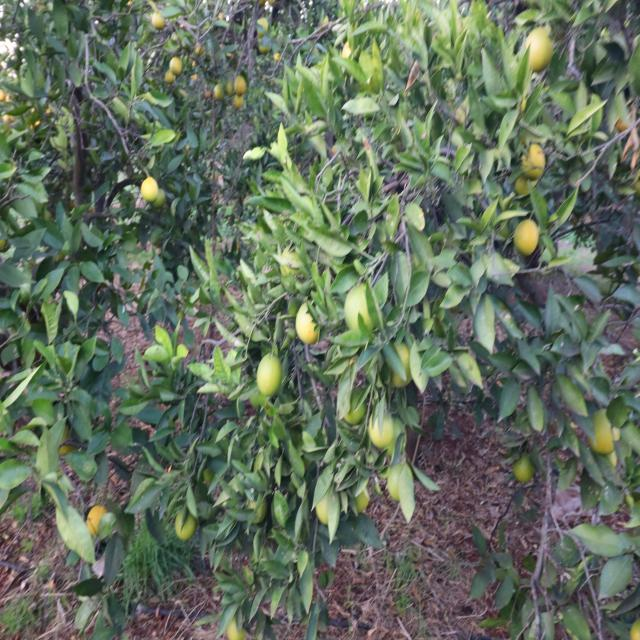Jeruk Belum Matang: (346, 282, 376, 334), (589, 410, 616, 454), (257, 354, 283, 396), (528, 27, 554, 69), (294, 303, 320, 345), (391, 342, 413, 386), (369, 414, 394, 448), (389, 465, 412, 501), (516, 220, 540, 254), (522, 144, 544, 178), (342, 391, 364, 424), (176, 510, 196, 540), (514, 454, 534, 481), (281, 245, 301, 272), (316, 496, 333, 526), (514, 175, 536, 195), (142, 178, 158, 203), (354, 487, 370, 512), (233, 76, 246, 94), (152, 14, 166, 28), (171, 57, 182, 73), (156, 190, 166, 206), (214, 84, 224, 100), (165, 70, 176, 83)
